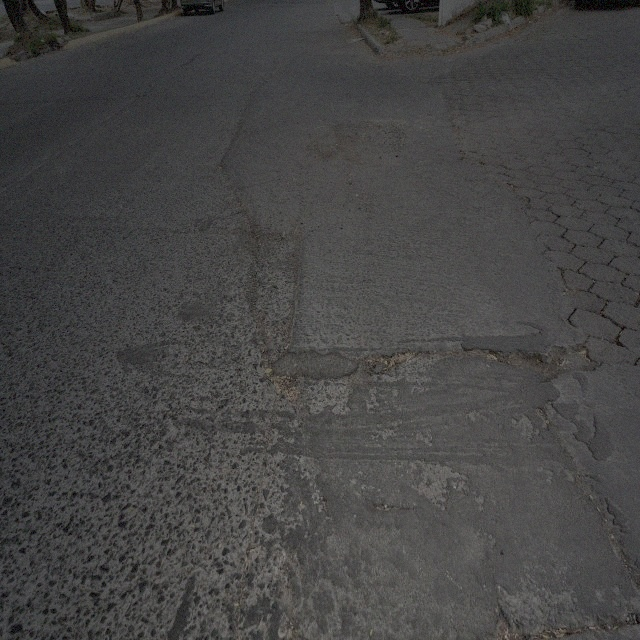pothole: (307, 368, 367, 416), (469, 346, 568, 367), (262, 352, 298, 408), (366, 345, 419, 377), (488, 604, 518, 633), (573, 342, 592, 363)
